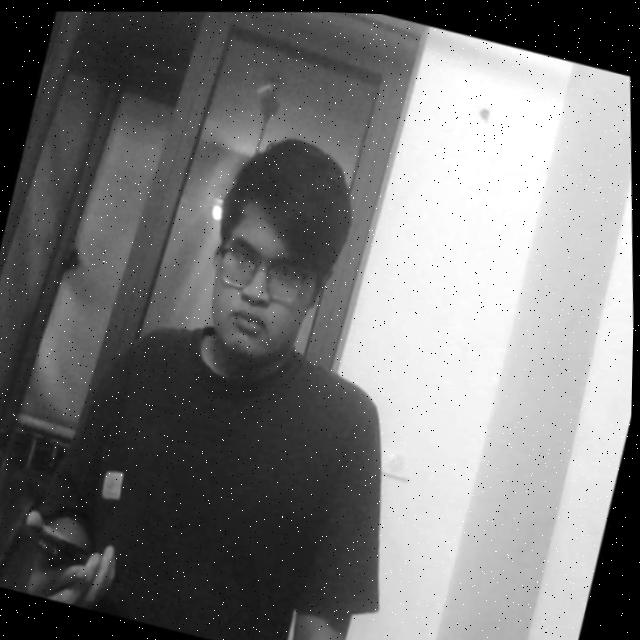phone: (0, 494, 135, 605)
